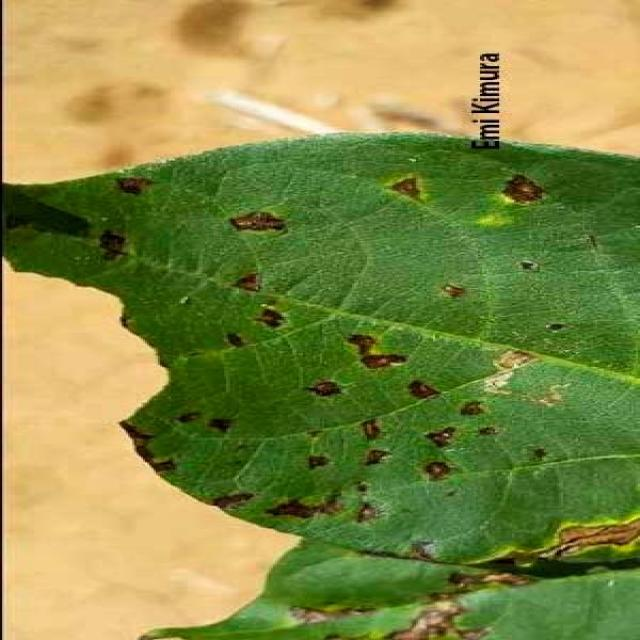Bacterial Blight: (74, 208, 554, 523)
